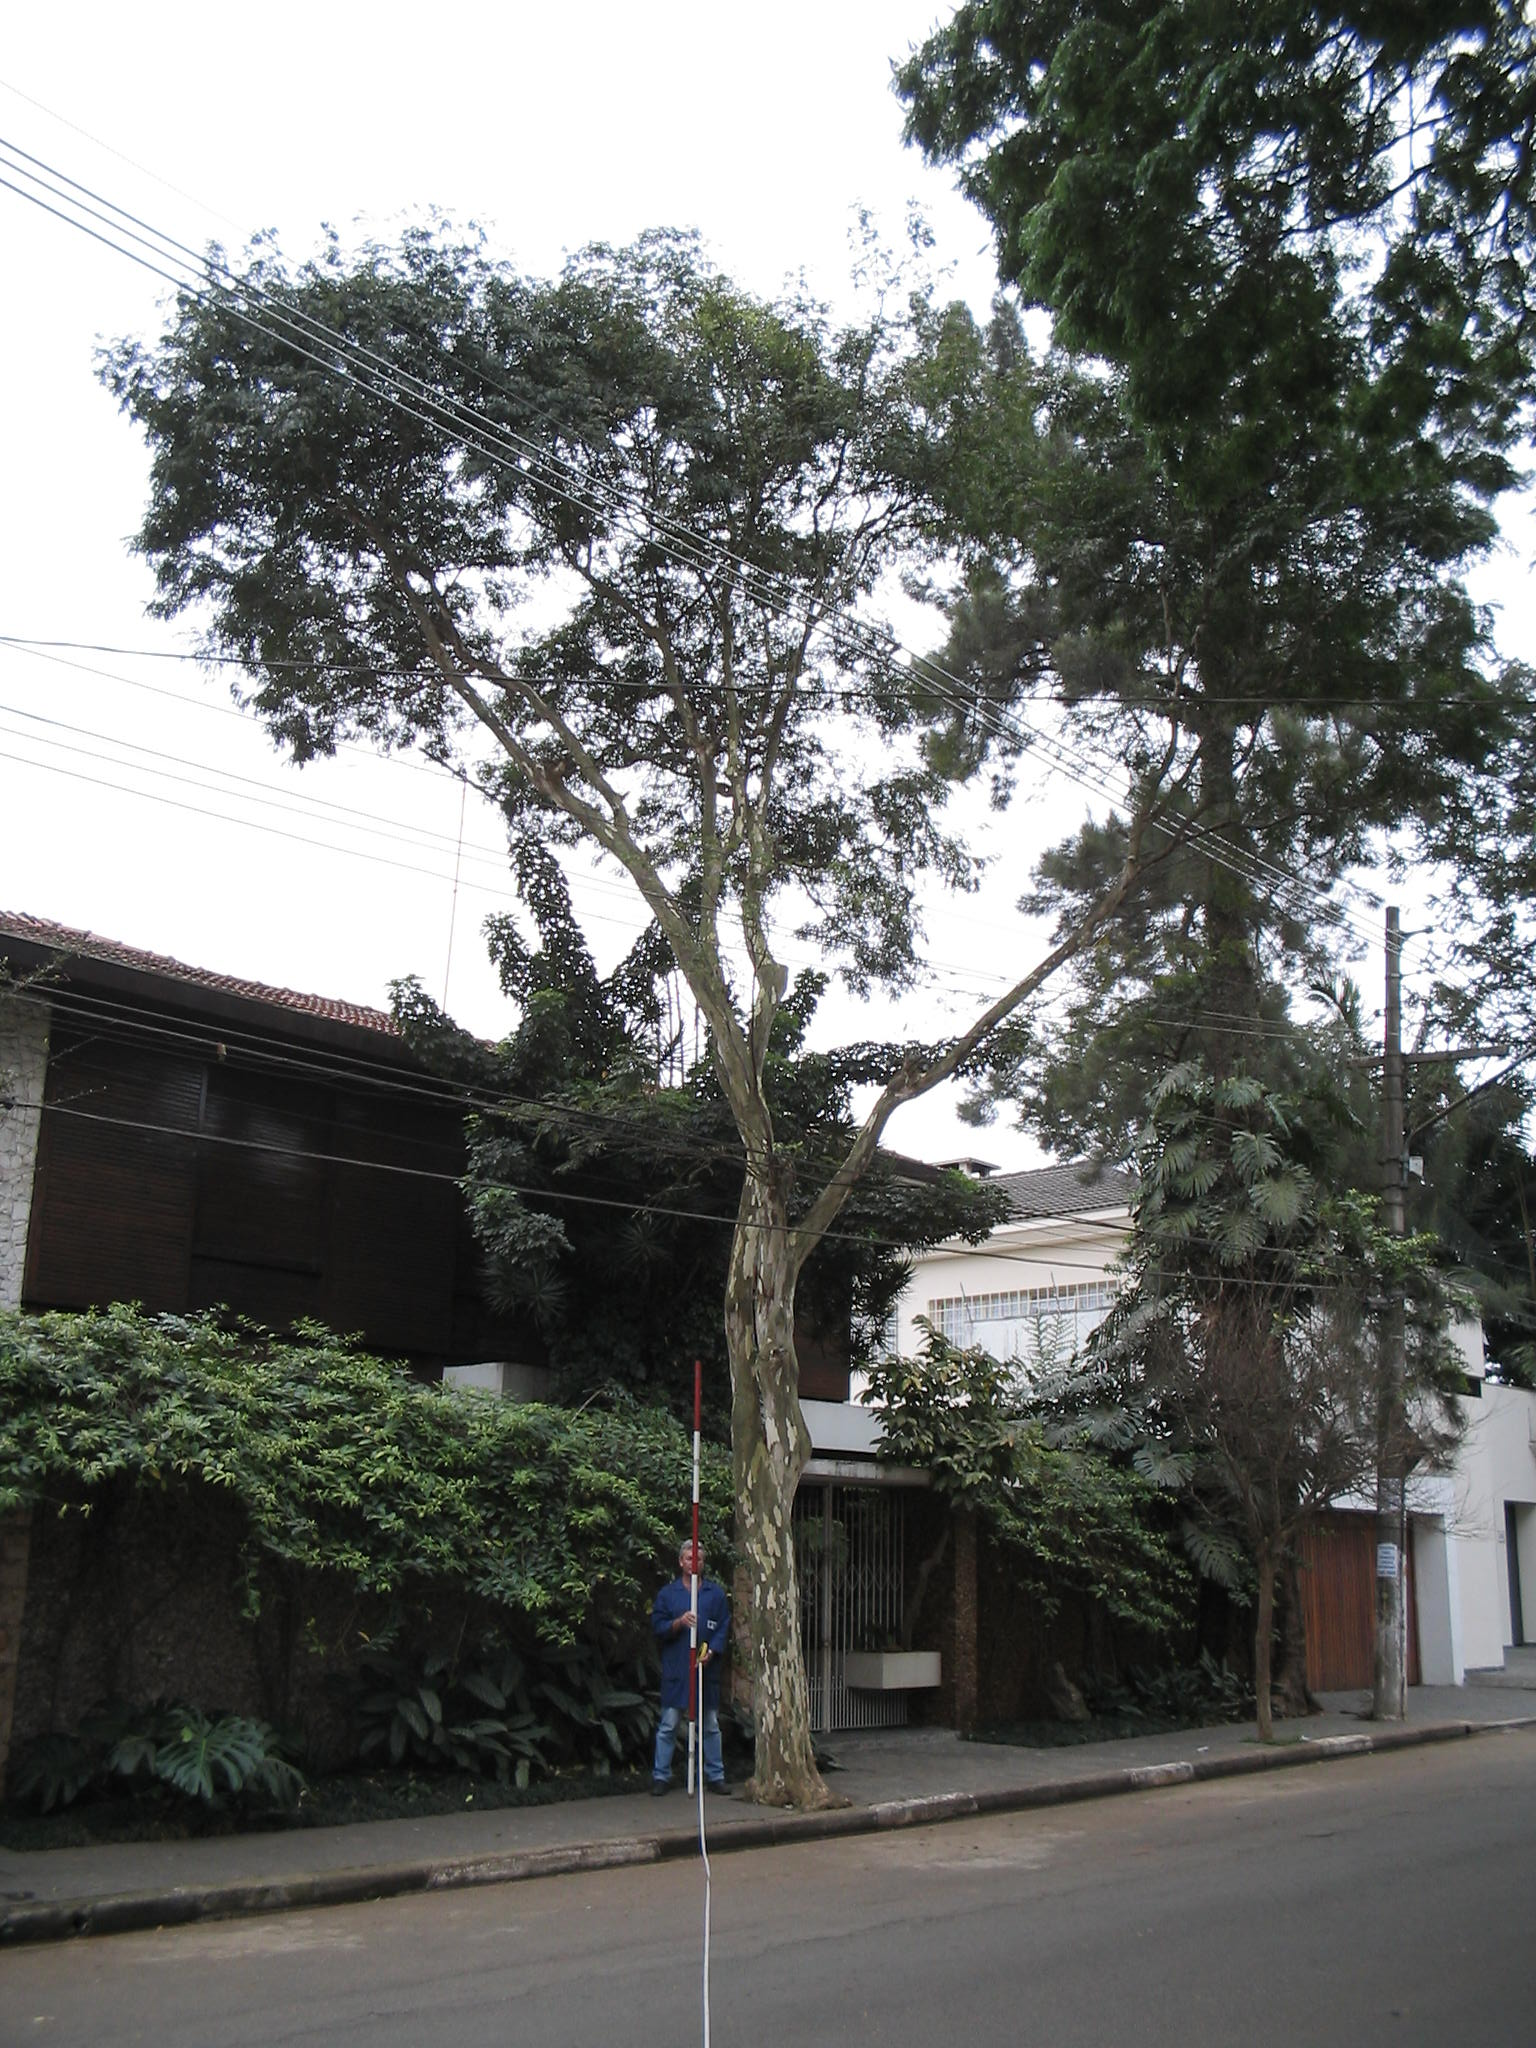crown: (98, 211, 1349, 890)
stem: (707, 1408, 887, 1808)
stick: (658, 1358, 733, 1795)
tree: (90, 208, 1350, 1811)
